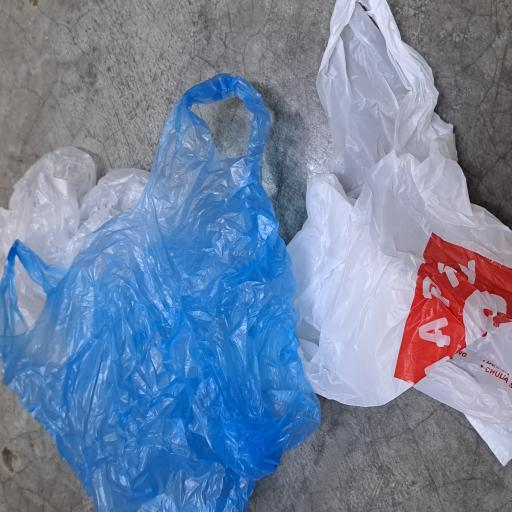plastic bag: (0, 0, 329, 429), (36, 366, 384, 512), (108, 0, 274, 209)
